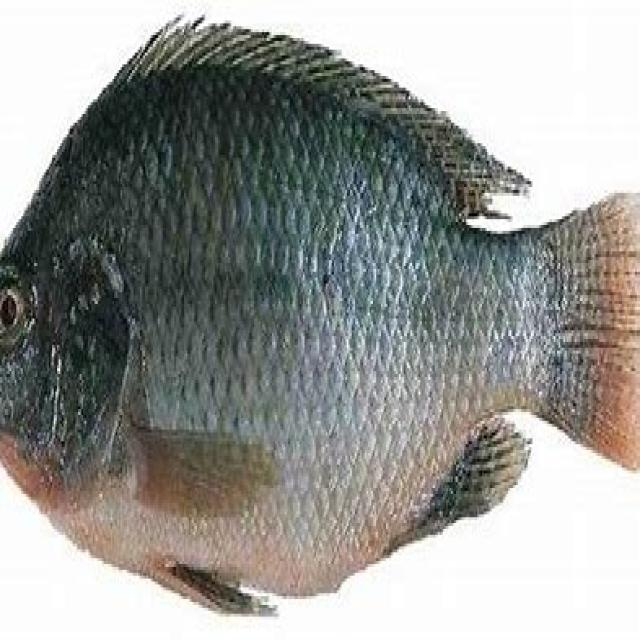Tilapia: (0, 8, 638, 618)
